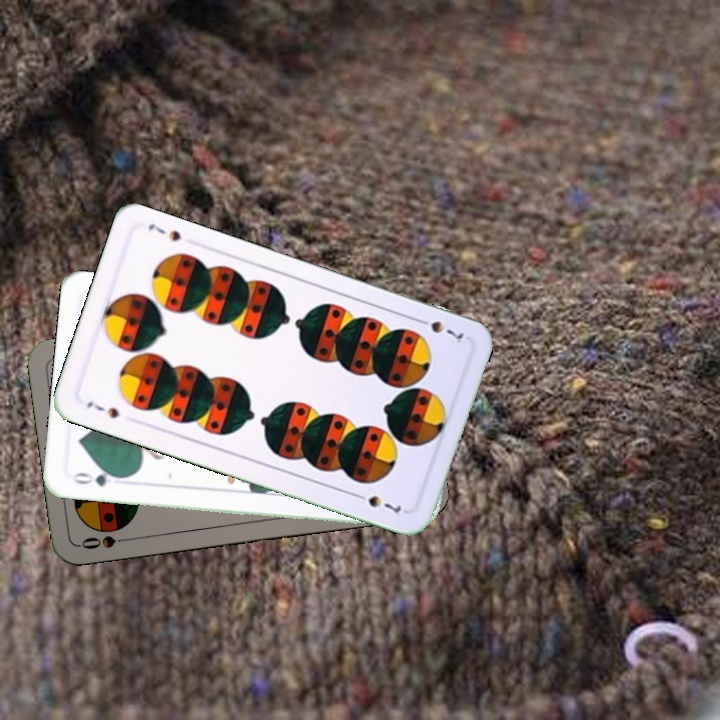GO: (69, 466, 127, 490)
S7: (412, 314, 469, 346), (82, 397, 122, 421)
SO: (76, 531, 136, 552)
